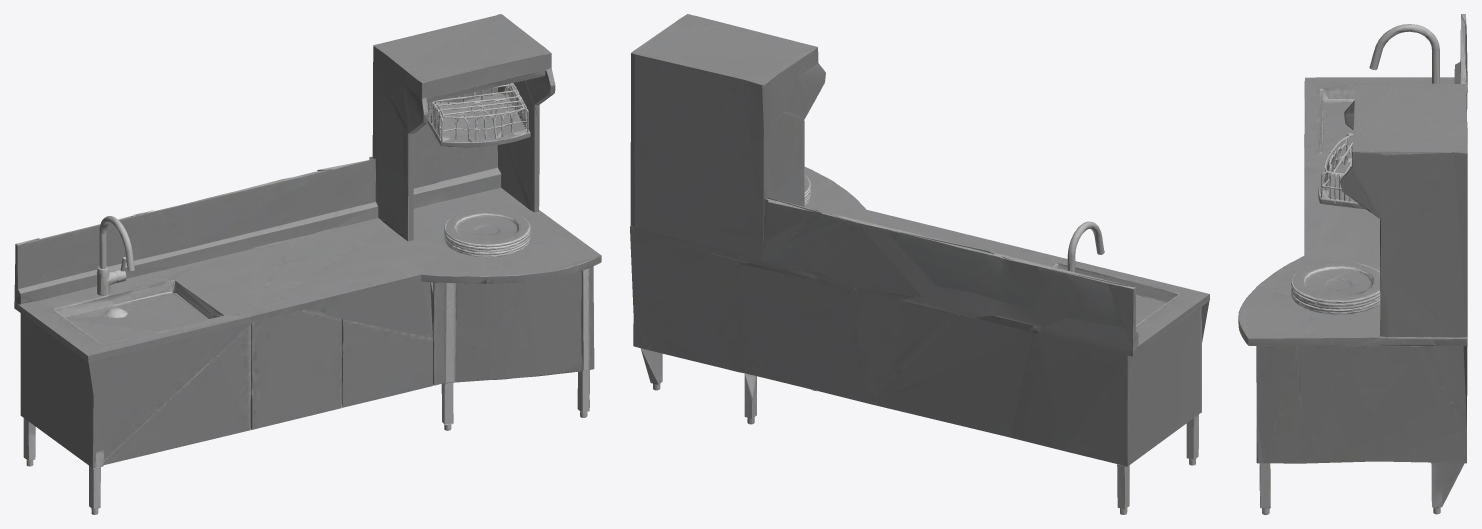
Rendered from srvDish.glb.
The picture shows the model from 3 angles, left to right: view 1: azimuth 30°, elevation 25°; view 2: azimuth 150°, elevation 25°; view 3: azimuth 270°, elevation 25°; orthographic projection. The views are drawn at different scales.
Size of the model in its own units: 1.9 by 1.24 by 0.7053.
Materials: 1 (1 with a texture image).
